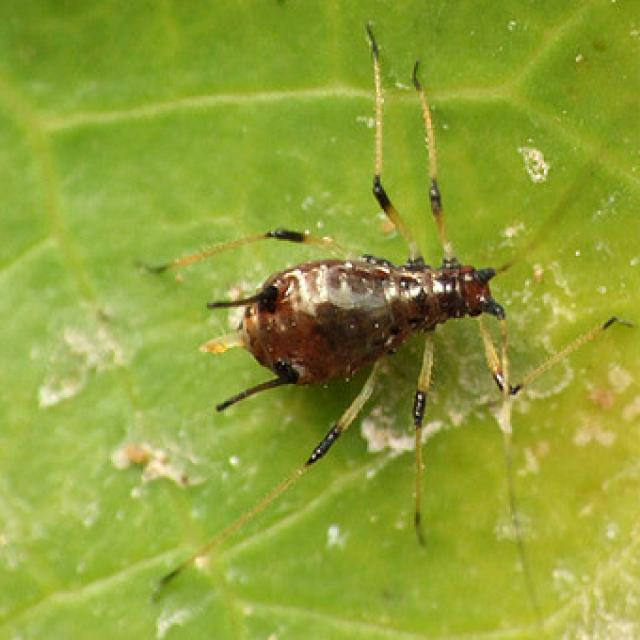Aphid-Grown-: (150, 46, 582, 503)
